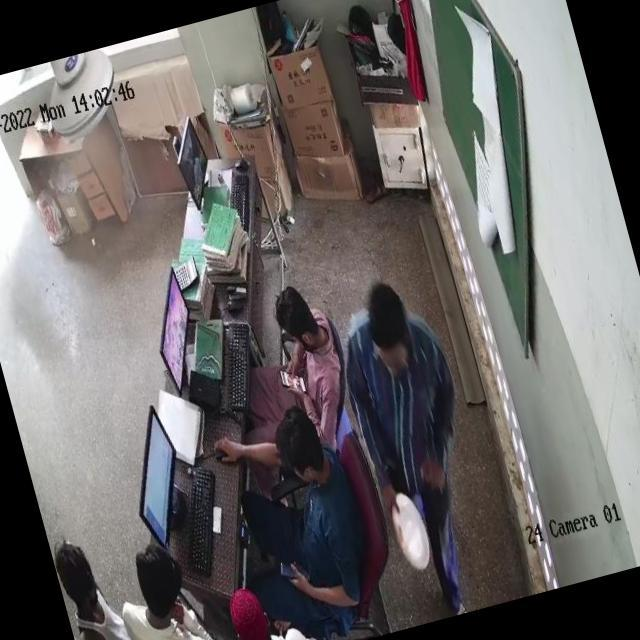person: (340, 278, 496, 602), (235, 394, 362, 604), (104, 535, 228, 640), (54, 534, 154, 640), (275, 280, 344, 401), (228, 572, 326, 640)
